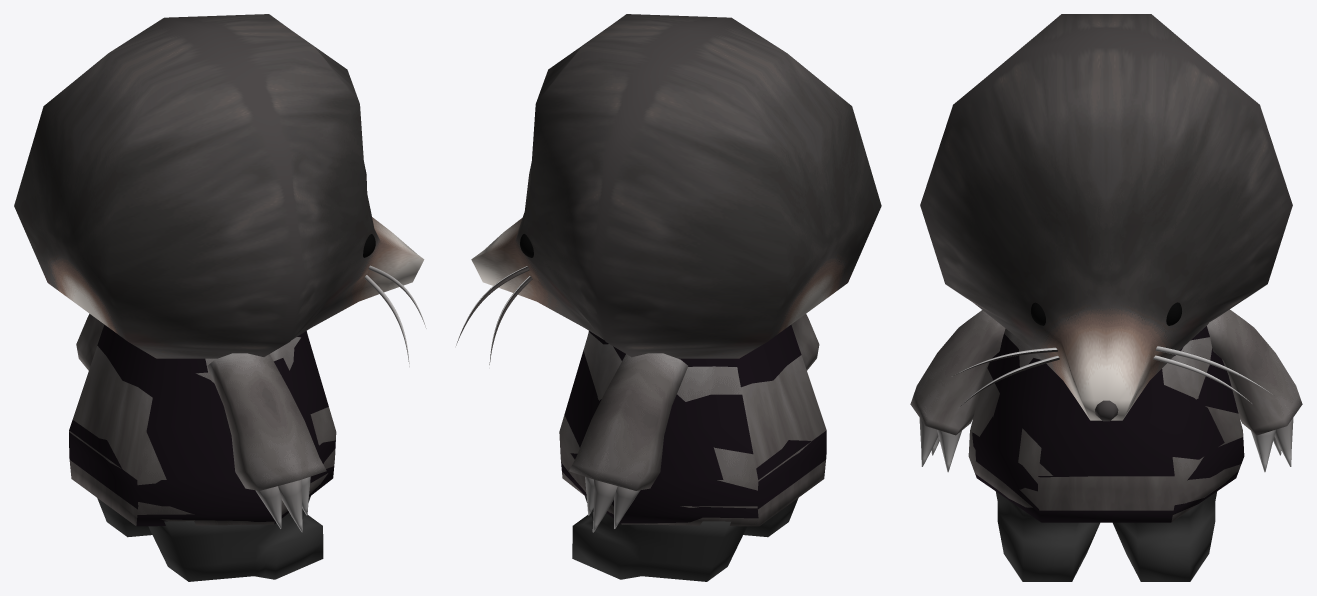
3 views of the same model, side by side, from view 1: azimuth 30°, elevation 25°; view 2: azimuth 150°, elevation 25°; view 3: azimuth 270°, elevation 25° (orthographic).
Visible parts, largest first — view 1: Head, Body, Body2, Legs, Claw 2, Claw 3; view 2: Head, Body2, Body, Legs, Claw 2, Claw 3; view 3: Head, Body2, Body, Legs, Claw1, Claw 2, Sphere.001.
Part boxes in pixels (x1,y1,x2,y2): Head: (14,14,424,358); Body: (69,324,335,526); Body2: (69,313,336,525); Legs: (97,496,323,581); Claw 2: (278,479,302,532); Claw 3: (255,486,281,528); Head: (471,14,881,358); Body2: (559,314,826,526); Body: (561,325,826,523); Legs: (572,496,798,581); Claw 2: (592,479,617,532); Claw 3: (614,486,640,528); Head: (920,14,1292,420); Body2: (910,309,1302,522); Body: (972,326,1244,522); Legs: (995,491,1217,581); Claw1: (937,429,1275,472); Claw 2: (919,418,1293,466); Sphere.001: (1031,302,1181,325).
Size of the model in its own units: 2.58 by 3.57 by 2.47.
9 materials, 6 textured.
